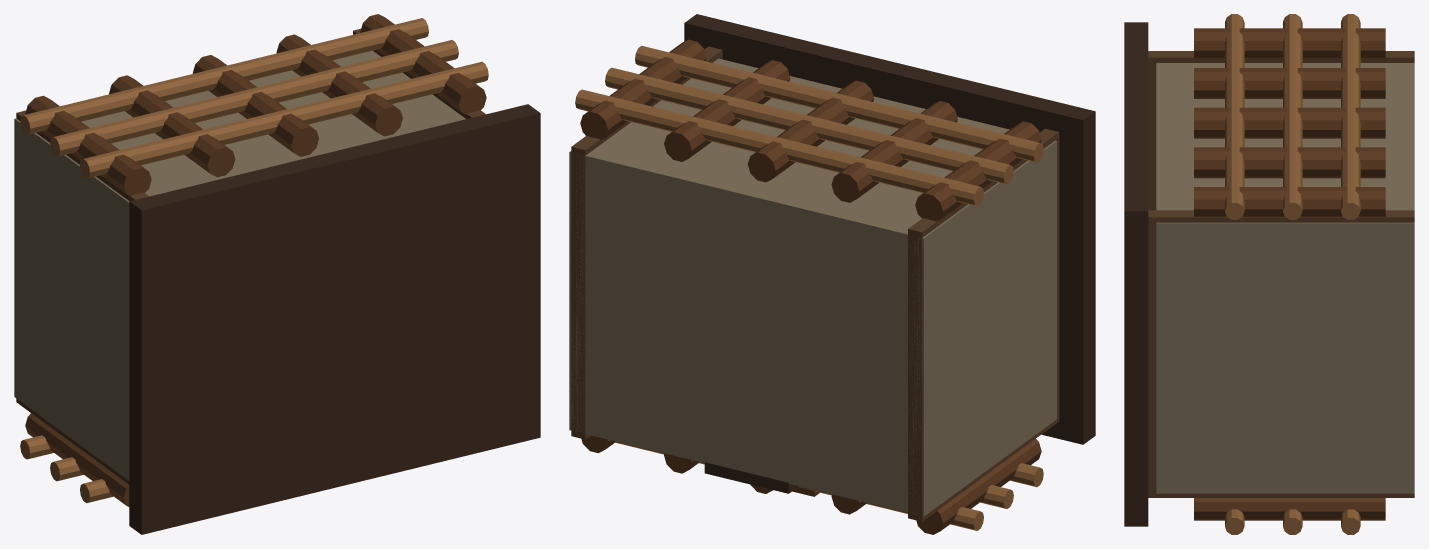
File: SM_TimberHut.obj
3 renders of one model, left to right at view 1: azimuth 30°, elevation 25°; view 2: azimuth 150°, elevation 25°; view 3: azimuth 270°, elevation 25°, orthographic. The views are drawn at different scales.
Bounding box in the file's own units: 4.5 × 3.74 × 2.92.
